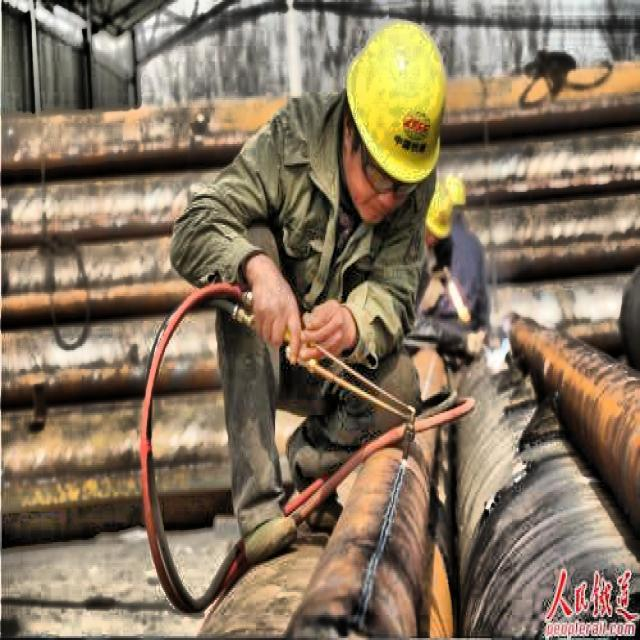helmet: (329, 0, 463, 229)
